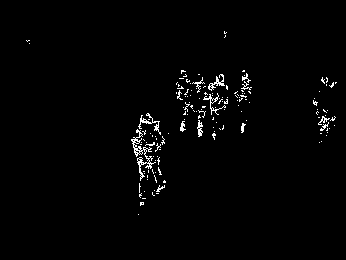person: (132, 112, 166, 207), (208, 73, 228, 139), (233, 69, 253, 134), (192, 73, 208, 138), (176, 69, 191, 132)
